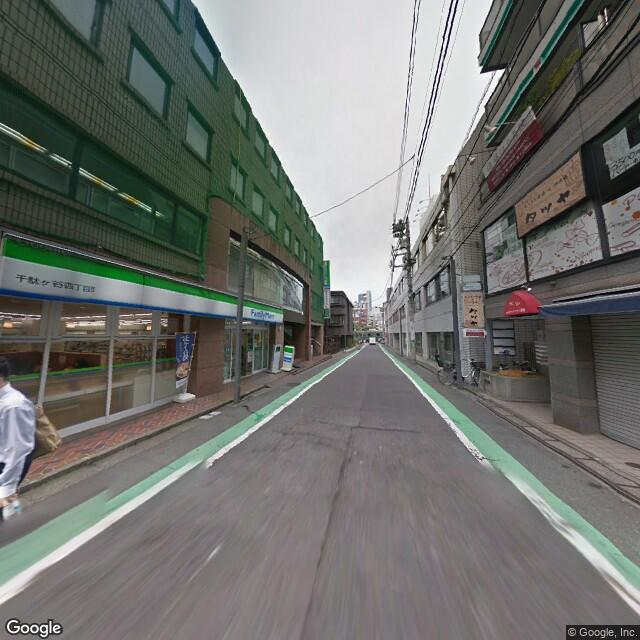family_mart: (3, 233, 286, 329), (279, 344, 294, 366)
